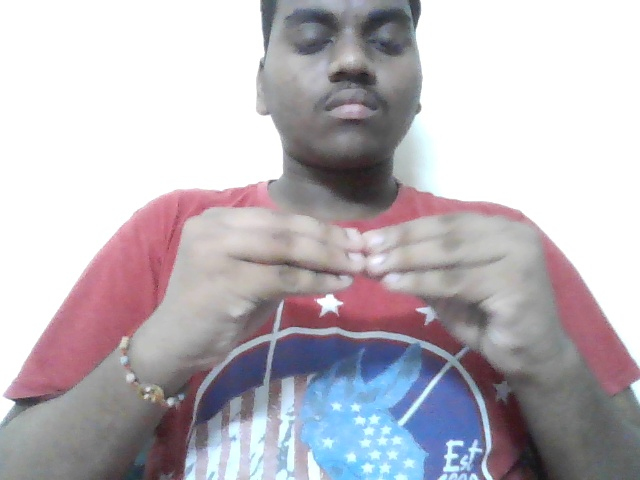More: (154, 199, 583, 404)
